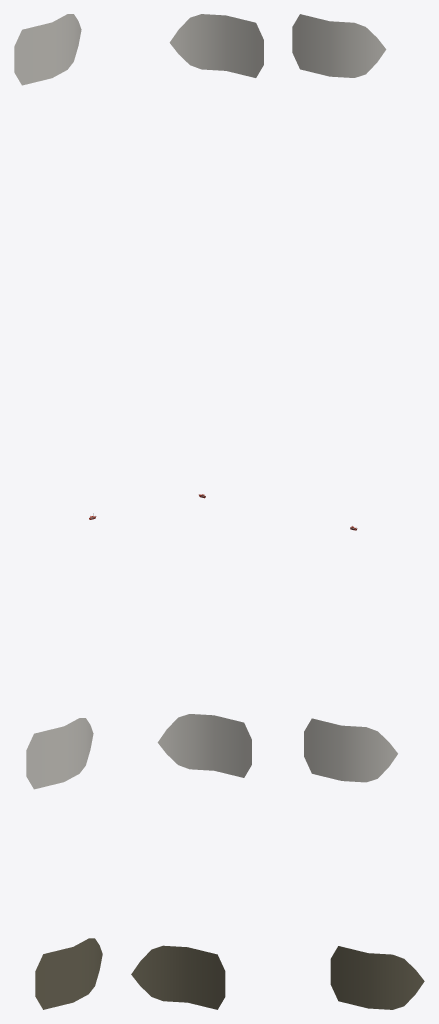
The model's file is shipp2.fbx.
3 renders of one model, left to right at view 1: azimuth 30°, elevation 25°; view 2: azimuth 150°, elevation 25°; view 3: azimuth 330°, elevation 25°, orthographic.
Visible parts, largest first — view 1: polySurface279, polySurface19, polySurface202; view 2: polySurface279, polySurface202, polySurface19; view 3: polySurface279, polySurface19, polySurface202.
Boxes of the visible parts, <box> form: polySurface279: <box>35,938,102,1009</box>; polySurface19: <box>14,14,81,85</box>; polySurface202: <box>26,718,93,789</box>; polySurface279: <box>131,945,225,1009</box>; polySurface202: <box>157,714,251,777</box>; polySurface19: <box>169,14,263,77</box>; polySurface279: <box>330,946,424,1009</box>; polySurface19: <box>292,14,386,77</box>; polySurface202: <box>304,718,397,782</box>.
Size of the model in its own units: 201 by 1718 by 98.81.
